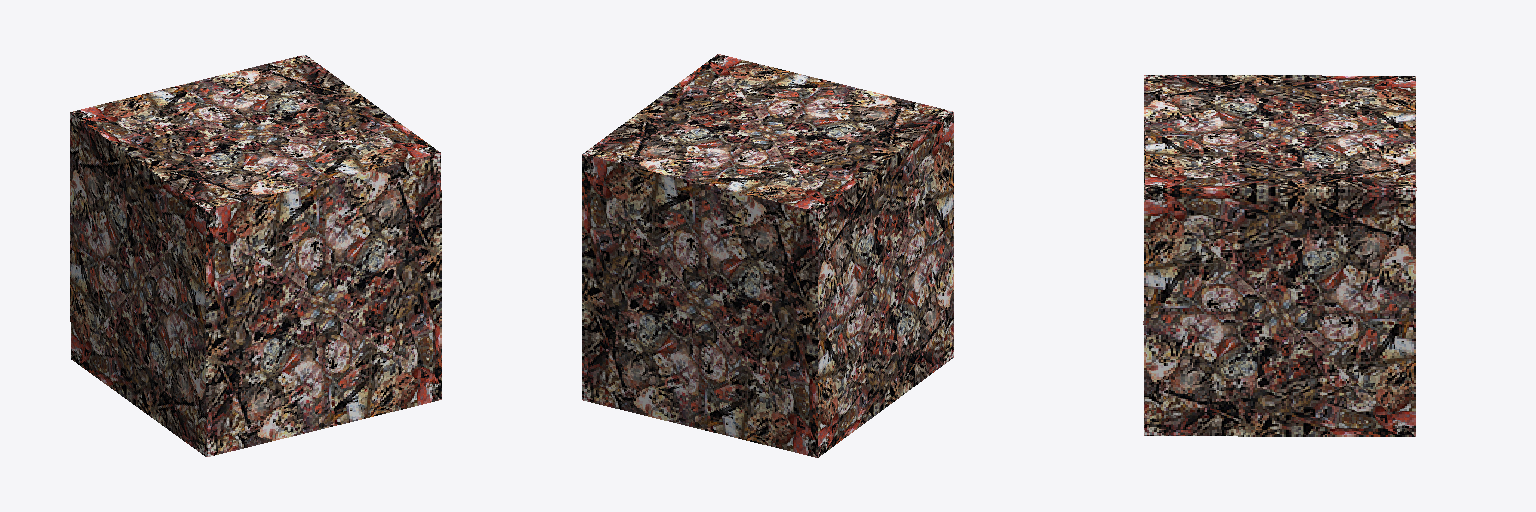
The picture shows the model from 3 angles: view 1: azimuth 30°, elevation 25°; view 2: azimuth 150°, elevation 25°; view 3: azimuth 270°, elevation 25°; orthographic projection.
Parts seen in each view (by area): view 1: Wall-E.007_Mesh.015; view 2: Wall-E.007_Mesh.015; view 3: Wall-E.007_Mesh.015.
Boxes of the visible parts, <box> form: Wall-E.007_Mesh.015: <box>70,55,441,456</box>; Wall-E.007_Mesh.015: <box>582,54,953,457</box>; Wall-E.007_Mesh.015: <box>1143,75,1416,436</box>.
Size of the model in its own units: 0.4349 by 0.4363 by 0.4359.
1 materials, 1 textured.